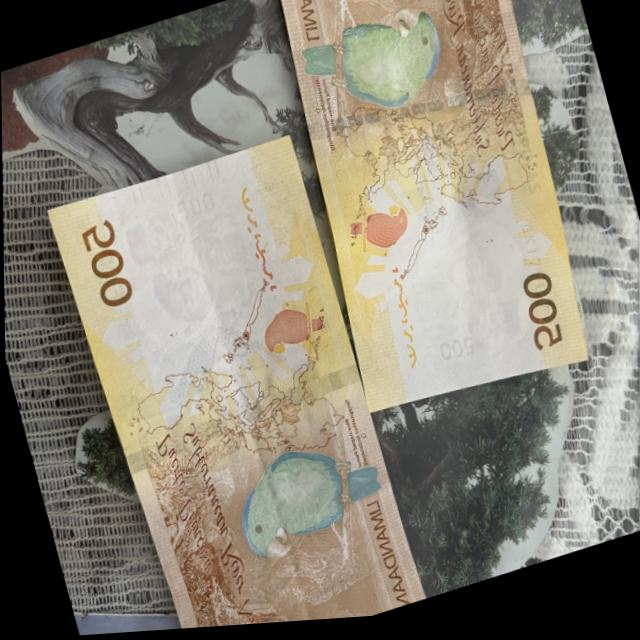500_big_parrot: (226, 425, 389, 571), (291, 0, 452, 134)
500_parrot_watermark: (256, 296, 330, 369), (339, 196, 414, 268)
value_watermark: (171, 186, 220, 233), (430, 330, 478, 373)
watermark: (108, 166, 256, 350), (398, 207, 542, 379)
